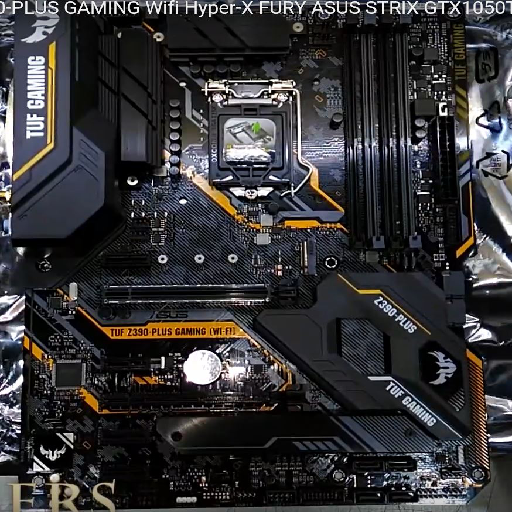CPU: (207, 78, 294, 199)
GPU: (99, 279, 302, 314)
MOTHERBOARD: (13, 1, 493, 504)
RAM: (342, 8, 423, 254)
SSD: (300, 237, 318, 275)
